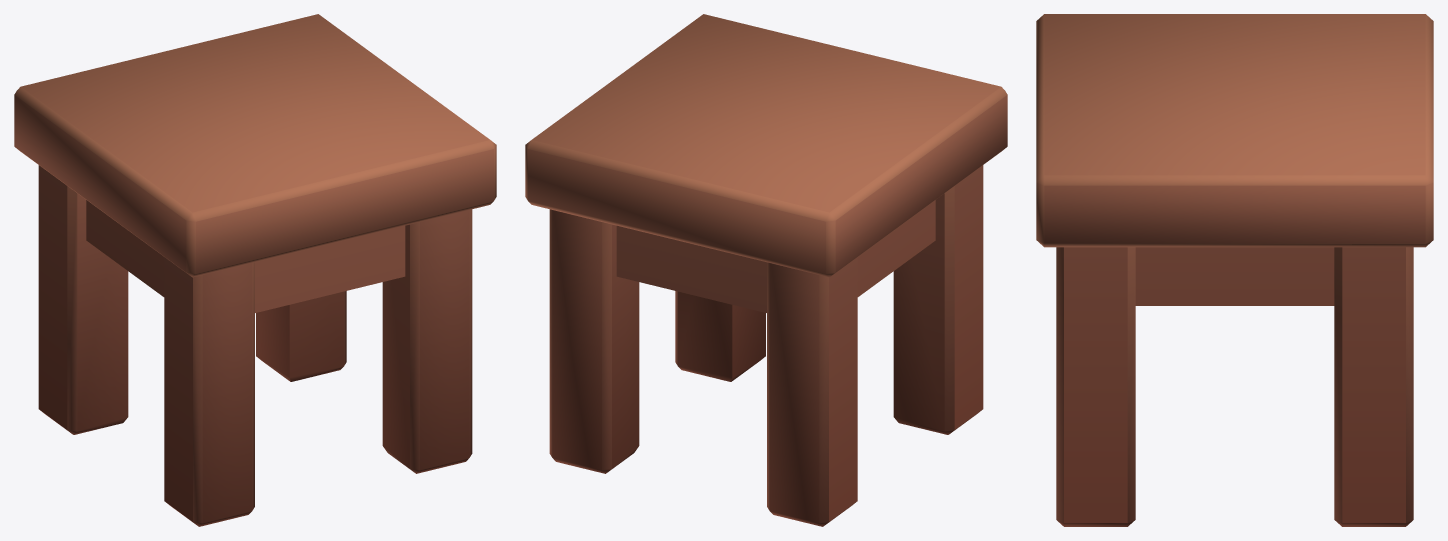
The picture shows the model from 3 angles, left to right: view 1: azimuth 30°, elevation 25°; view 2: azimuth 150°, elevation 25°; view 3: azimuth 270°, elevation 25°; orthographic projection. The views are drawn at different scales.
Visible parts, largest first — view 1: table_small; view 2: table_small; view 3: table_small.
Part boxes in pixels (bbox=[...]): table_small: bbox=[14, 14, 496, 526]; table_small: bbox=[525, 14, 1007, 526]; table_small: bbox=[1036, 14, 1433, 526].
Bounding box in the file's own units: 1 × 1 × 1.
Materials: 1 (1 with a texture image).
